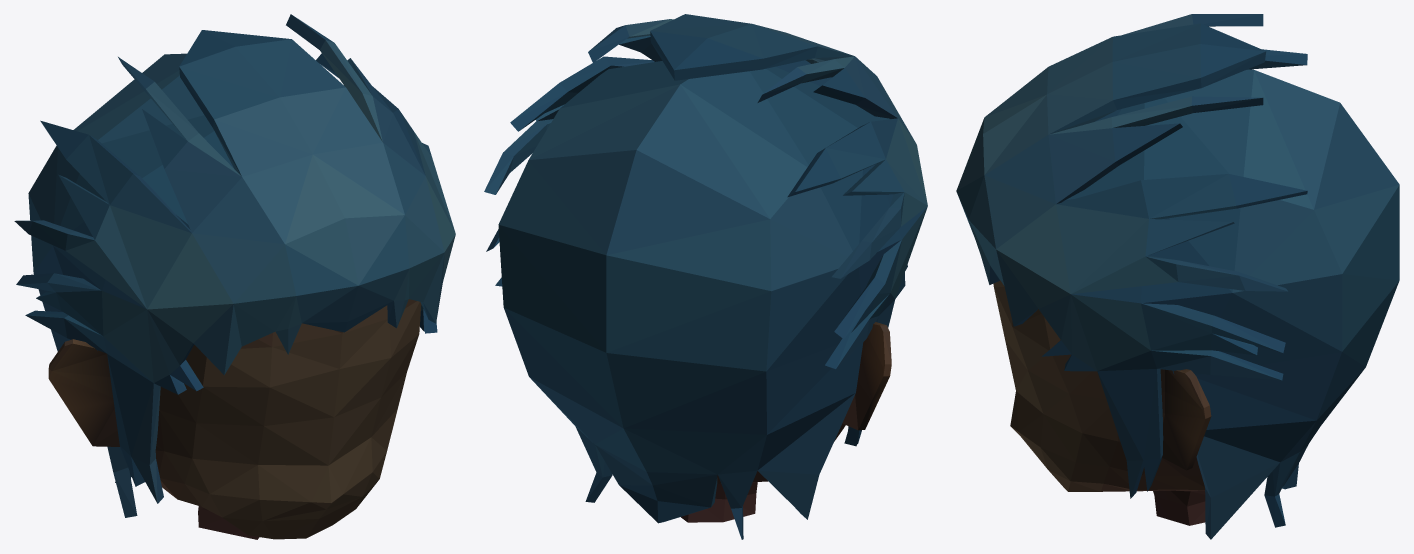
File: helm_darkskin_spike_blue.fbx
3 renders of one model, left to right at view 1: azimuth 30°, elevation 25°; view 2: azimuth 150°, elevation 25°; view 3: azimuth 270°, elevation 25°, orthographic.
Parts seen in each view (by area): view 1: helm_darkskin_spike_blue; view 2: helm_darkskin_spike_blue; view 3: helm_darkskin_spike_blue.
Boxes of the visible parts, box(x1,y1,x2,y2) form: helm_darkskin_spike_blue: box(14, 14, 455, 539); helm_darkskin_spike_blue: box(484, 14, 927, 539); helm_darkskin_spike_blue: box(956, 14, 1399, 539).
Bounding box in the file's own units: 1.13 × 1.39 × 1.18.
